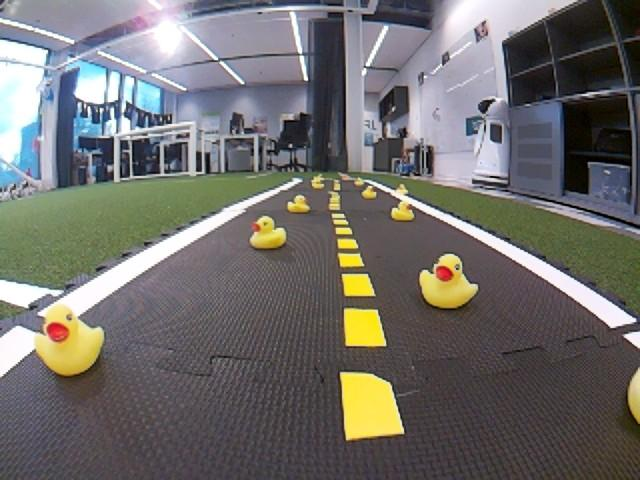Duckies: (31, 305, 103, 376), (419, 254, 476, 309), (250, 216, 285, 249), (390, 201, 414, 220), (286, 196, 308, 213), (362, 189, 376, 199), (398, 186, 408, 194), (312, 181, 323, 188), (356, 179, 365, 185), (334, 182, 340, 189)
